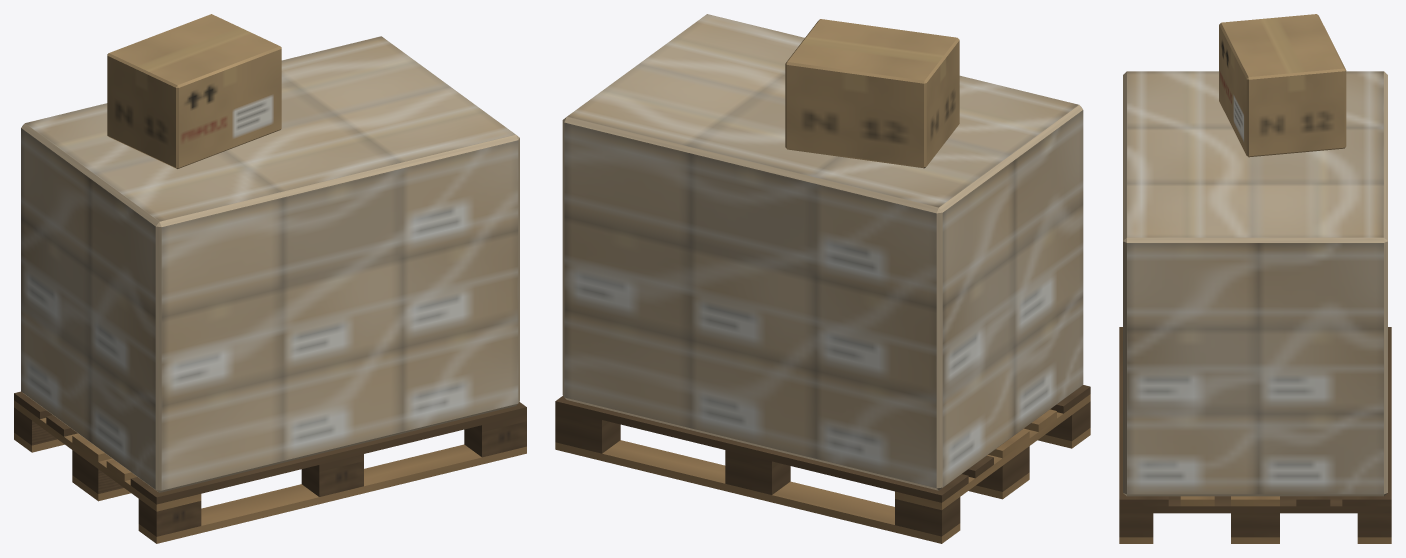
File: pallet_boxes.fbx
3 views of the same model, side by side, from view 1: azimuth 30°, elevation 25°; view 2: azimuth 150°, elevation 25°; view 3: azimuth 270°, elevation 25° (orthographic). The views are drawn at different scales.
Parts seen in each view (by area): view 1: pallet_boxes; view 2: pallet_boxes; view 3: pallet_boxes.
Boxes of the visible parts, left/top/right/bottom form: pallet_boxes: left=14, top=14, right=526, bottom=543; pallet_boxes: left=555, top=14, right=1090, bottom=543; pallet_boxes: left=1119, top=14, right=1391, bottom=543.
Size of the model in its own units: 1.2 by 1.24 by 0.8.
1 material, 1 textured.
